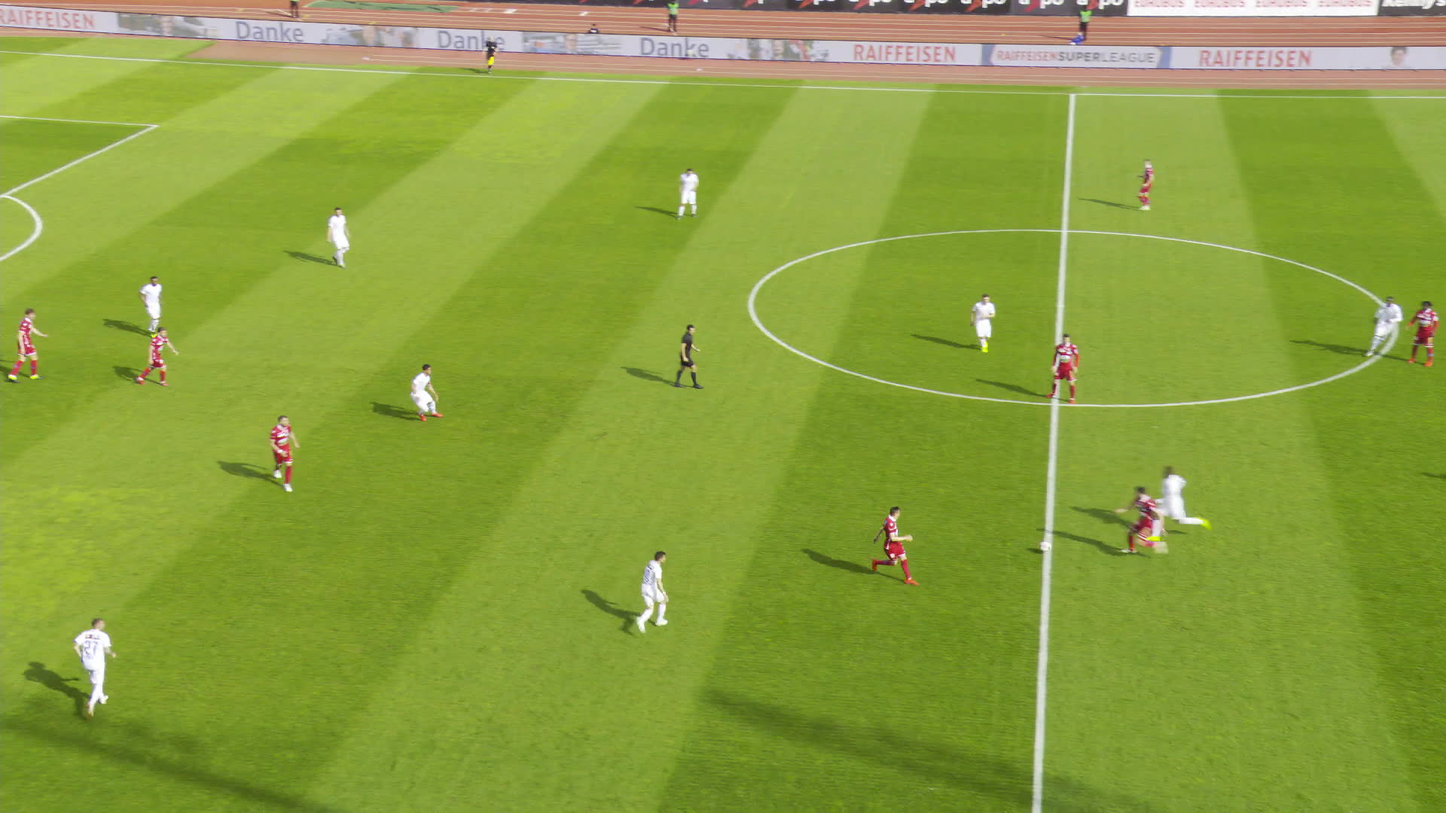ball: (1033, 542, 1045, 554)
player: (70, 616, 115, 717), (1149, 464, 1212, 530), (871, 504, 920, 585), (1112, 485, 1167, 553), (7, 306, 48, 382), (633, 551, 670, 635), (134, 326, 178, 386), (268, 413, 300, 492), (1051, 332, 1085, 405), (1374, 297, 1409, 363), (409, 363, 442, 422), (968, 291, 996, 355), (325, 206, 352, 269), (137, 274, 162, 337), (1134, 158, 1161, 213), (675, 167, 699, 221)
referee: (673, 322, 706, 388), (480, 35, 499, 74)
